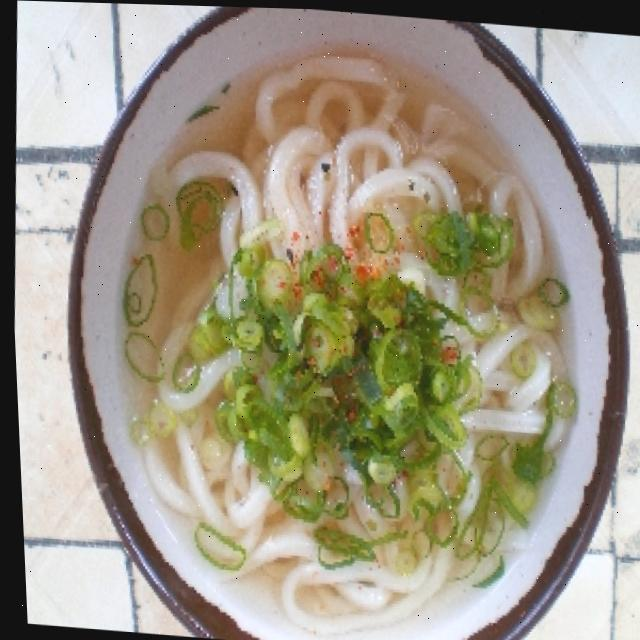面条主食: (35, 1, 640, 640)
